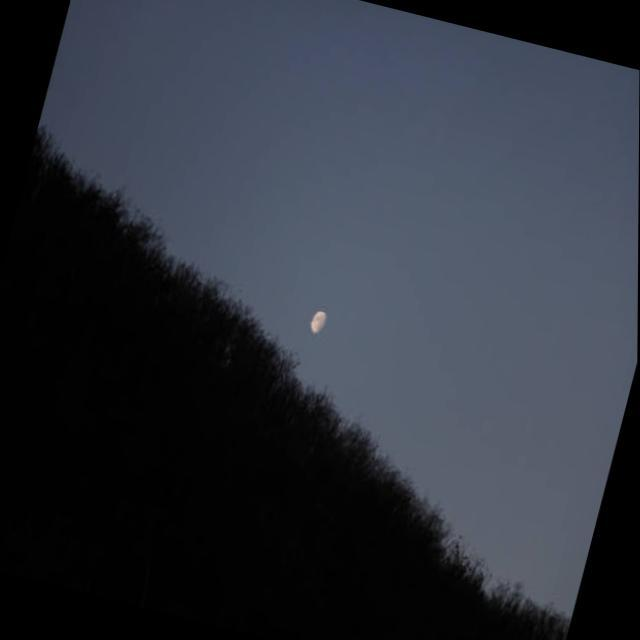moon: (306, 310, 332, 340)
